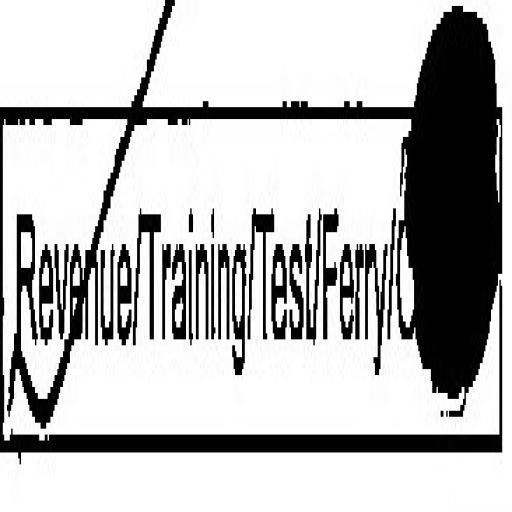check: (2, 25, 142, 512)
